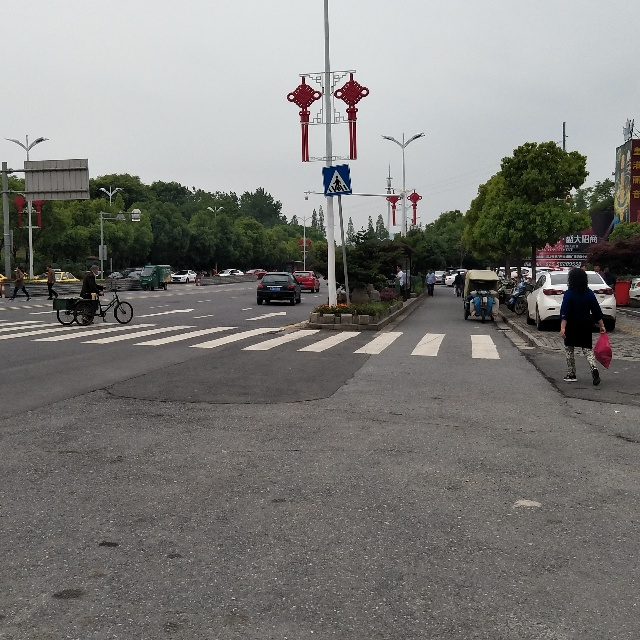crosswalk: (319, 164, 354, 200)
